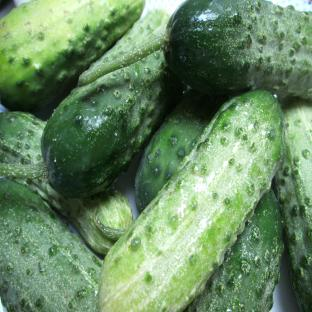Cucumber: (99, 91, 284, 311), (42, 53, 183, 197), (104, 0, 311, 98), (0, 179, 101, 311), (185, 190, 283, 311), (136, 90, 217, 212), (15, 178, 132, 254), (277, 99, 311, 311)
